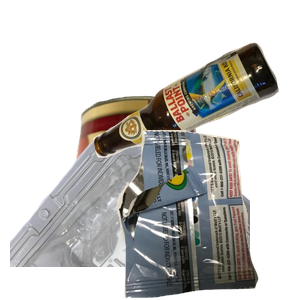glass: (91, 40, 300, 190)
metal: (69, 93, 265, 273)
plastic: (10, 120, 250, 300)
trash: (114, 130, 300, 300)
